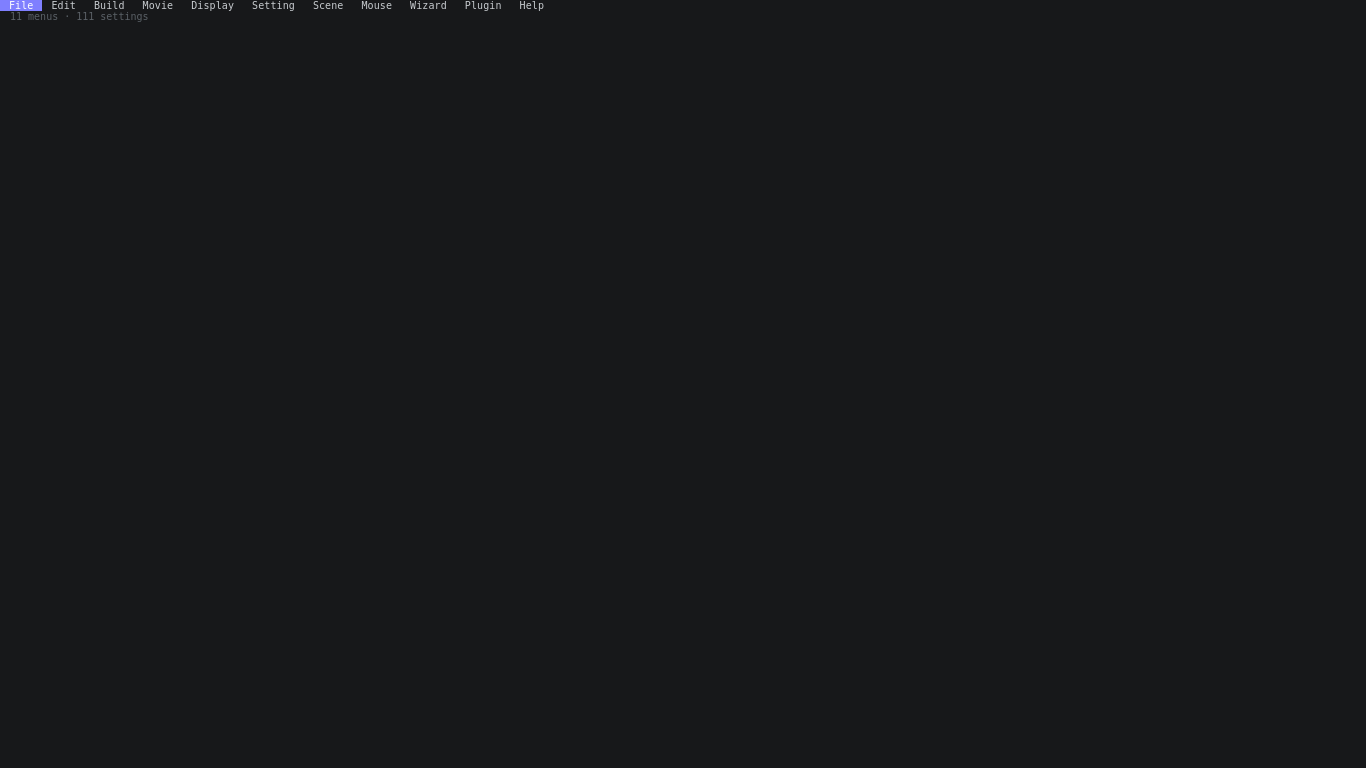
Test: Scene > Scenes... (row 67) › is enabled and opens the scene panel
Step 1. Click the button with class "menubar__item" showing "Scene" → (328, 6), box [304, 0, 352, 11]
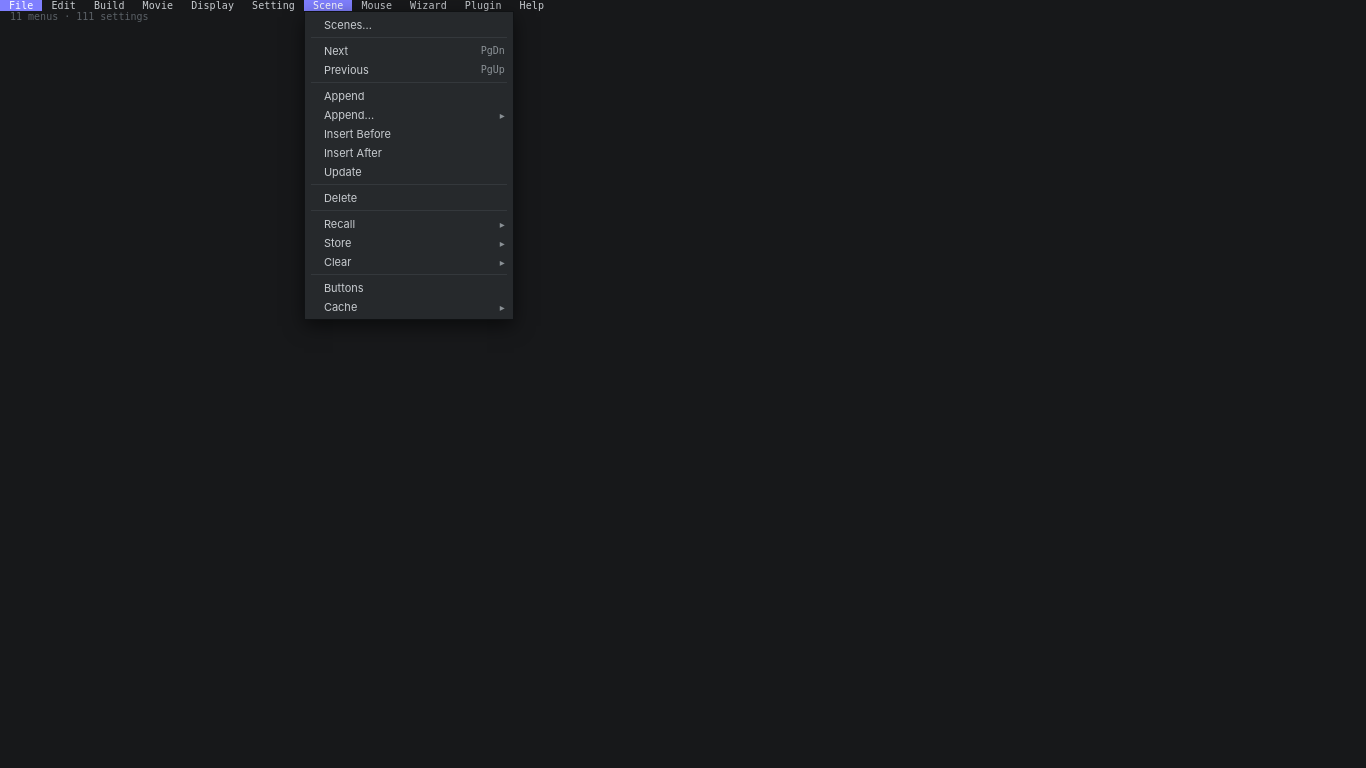
Expected: the menu item with class "menu__row" showing "Scenes..." is enabled
Step 2. Click the menu item with class "menu__row" showing "Scenes..." → (409, 24), box [305, 15, 513, 34]
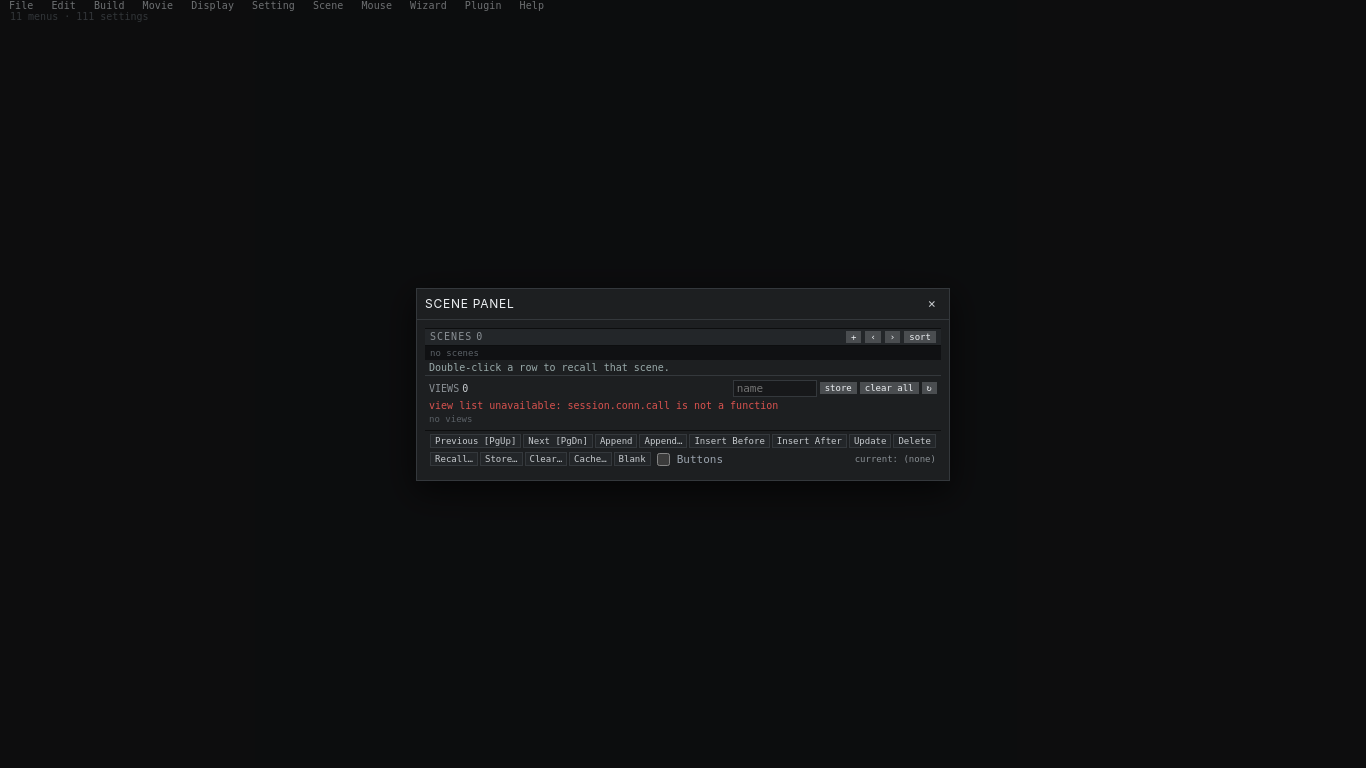
Expected: the dialog is shown, [416, 288, 950, 480]
